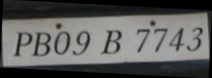character: (100, 28, 122, 56), (30, 31, 51, 57), (13, 30, 33, 57), (71, 30, 90, 57), (185, 26, 203, 52), (53, 30, 70, 56), (152, 27, 169, 53), (168, 26, 185, 52), (135, 27, 151, 53)
